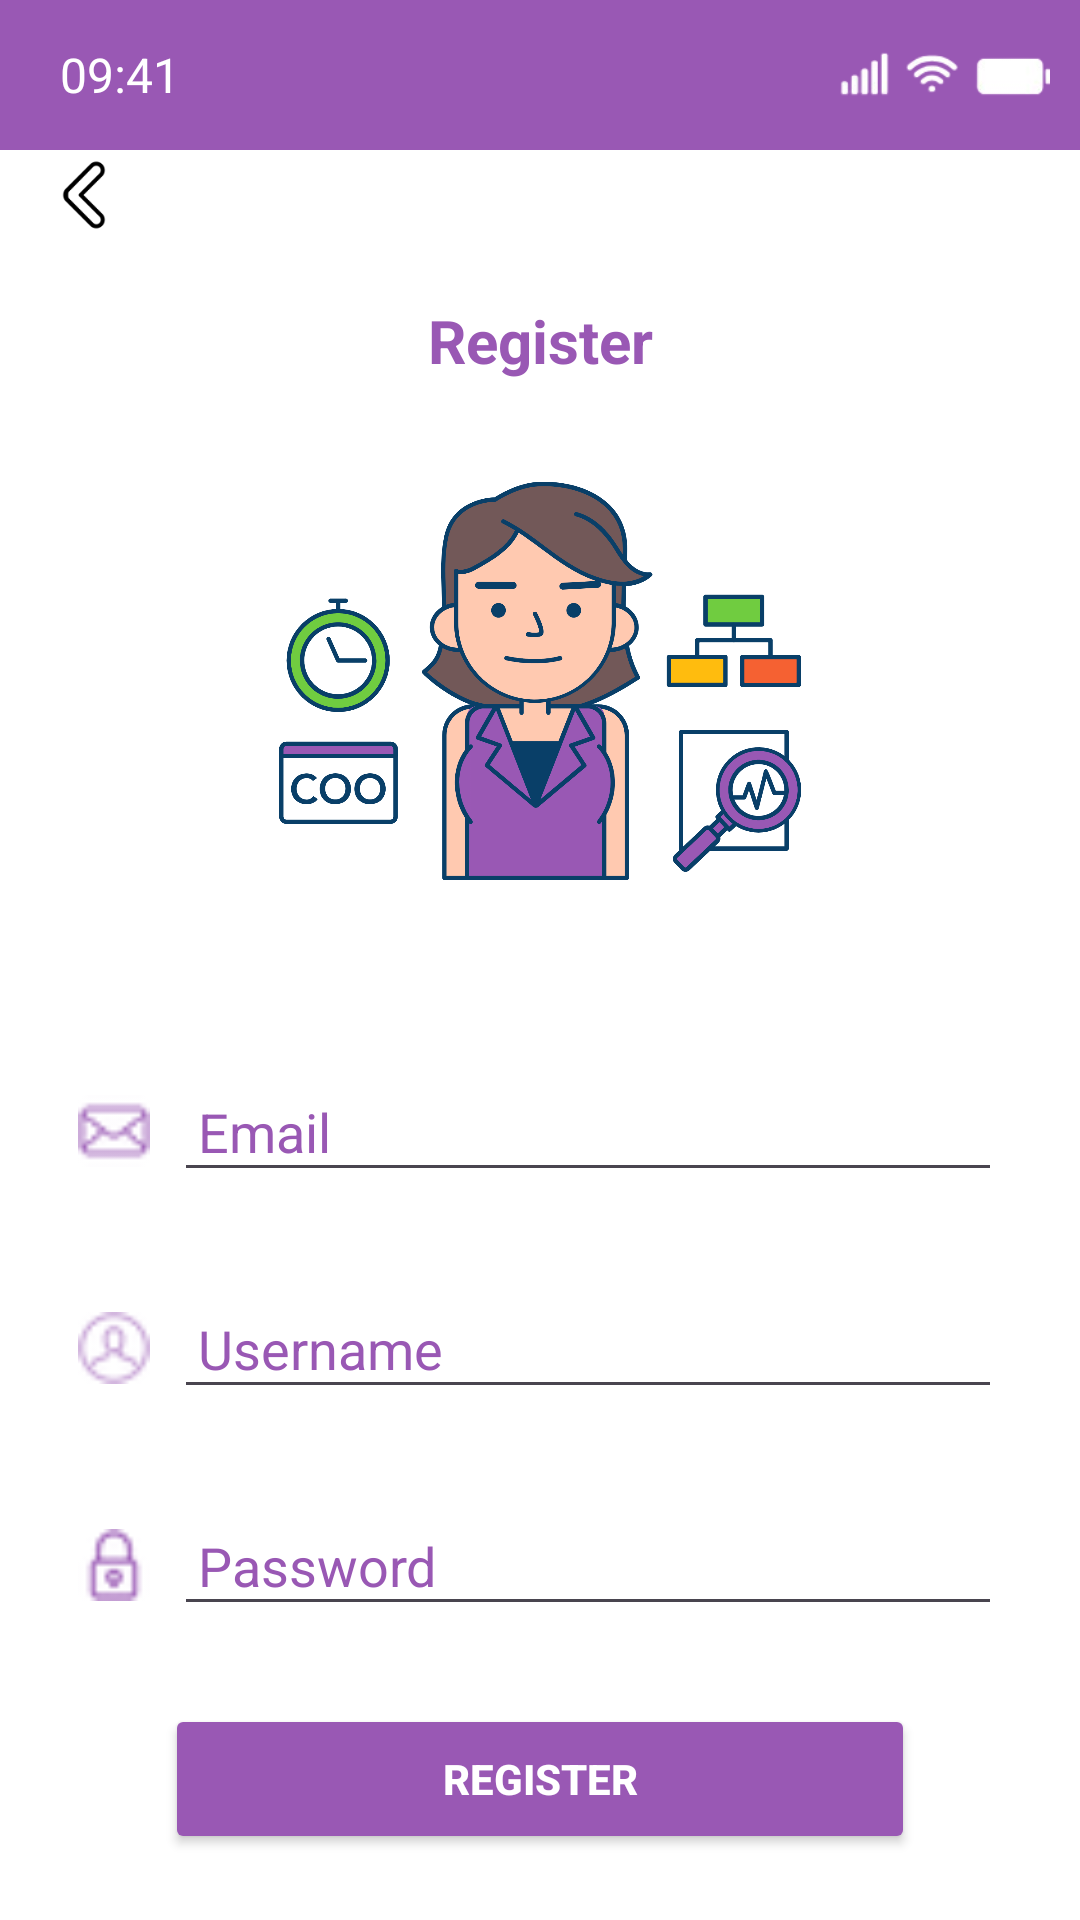

Named icons in this screenshot (1080x1920) and their bounding boxes, (x1, y1, x2, y2):
kembali: (63, 161, 105, 229)
lock: (87, 1529, 141, 1601)
man: (78, 1312, 150, 1384)
